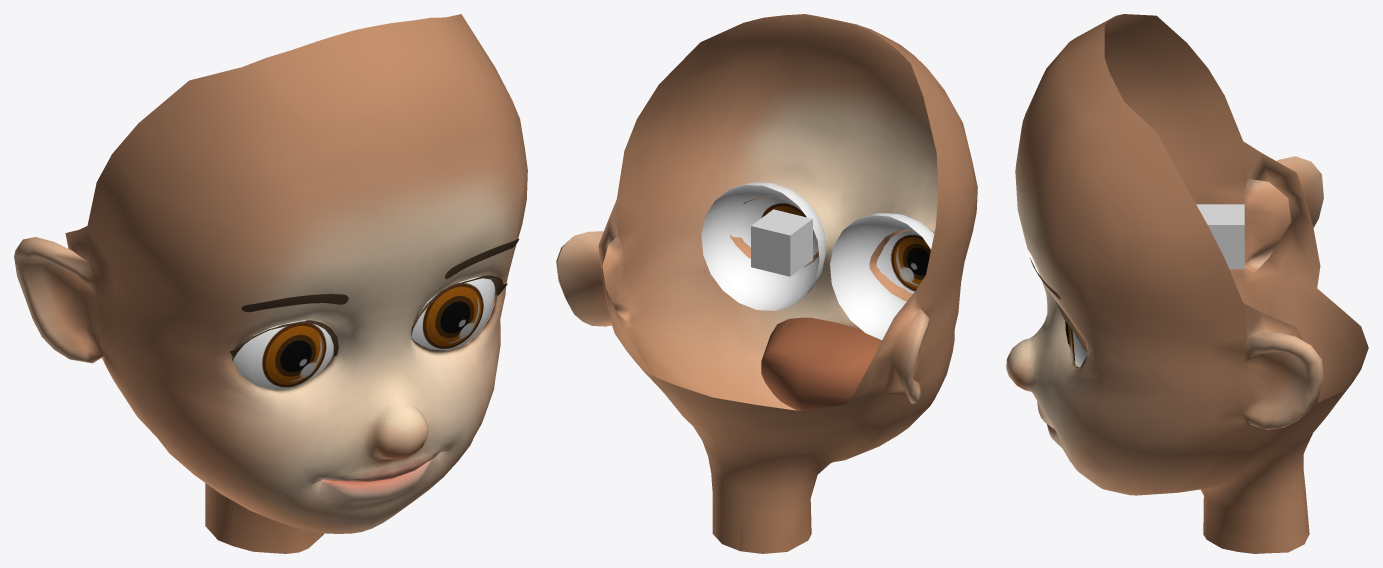
File: girl_face.FBX
The picture shows the model from 3 angles, left to right: view 1: azimuth 30°, elevation 25°; view 2: azimuth 150°, elevation 25°; view 3: azimuth 270°, elevation 25°; orthographic projection. The views are drawn at different scales.
Visible parts, largest first — view 1: girl_face03, girl_eye02, girl_eye01; view 2: girl_face03, girl_eye01, girl_eye02, faceSpawn; view 3: girl_face03, faceSpawn, girl_eye01.
Part boxes in pixels (<box>): girl_face03: <box>14,14,527,553</box>; girl_eye02: <box>233,320,333,390</box>; girl_eye01: <box>411,276,494,350</box>; girl_face03: <box>556,14,977,553</box>; girl_eye01: <box>701,182,826,310</box>; girl_eye02: <box>830,213,934,339</box>; faceSpawn: <box>751,209,812,276</box>; girl_face03: <box>1006,14,1368,553</box>; faceSpawn: <box>1196,204,1244,269</box>; girl_eye01: <box>1065,321,1087,367</box>.
Size of the model in its own units: 46.01 by 56.04 by 37.22.
